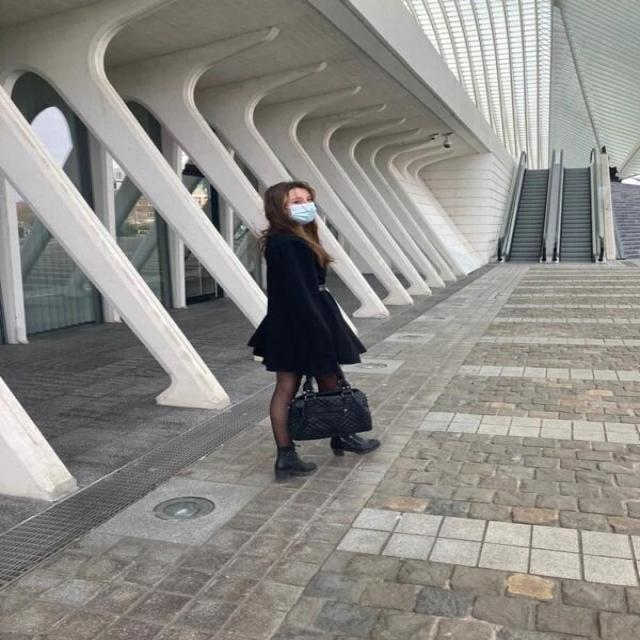clothes: (249, 232, 364, 393)
